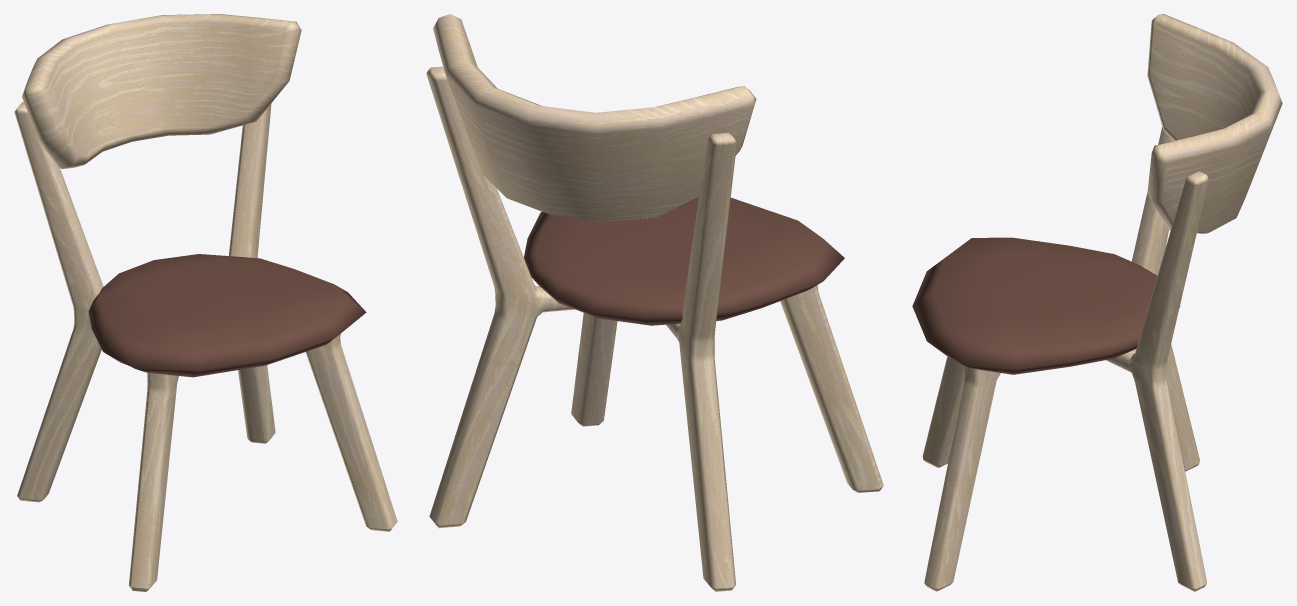
Rendered from chair_030.fbx.
3 views of the same model, side by side, from view 1: azimuth 30°, elevation 25°; view 2: azimuth 150°, elevation 25°; view 3: azimuth 270°, elevation 25° (orthographic). The views are drawn at different scales.
Visible parts, largest first — view 1: chair_030; view 2: chair_030; view 3: chair_030.
Part boxes in pixels (box(x1,y1,x2,y2)): chair_030: box(14, 14, 397, 591); chair_030: box(426, 14, 883, 591); chair_030: box(912, 14, 1282, 591).
Size of the model in its own units: 76.06 by 83.23 by 111.
